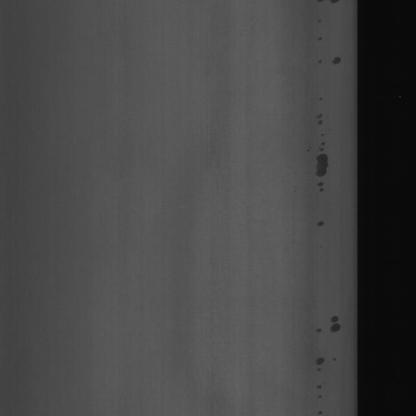oil_spot: (312, 110, 332, 238), (328, 34, 346, 73), (331, 309, 342, 344), (314, 351, 328, 372)
